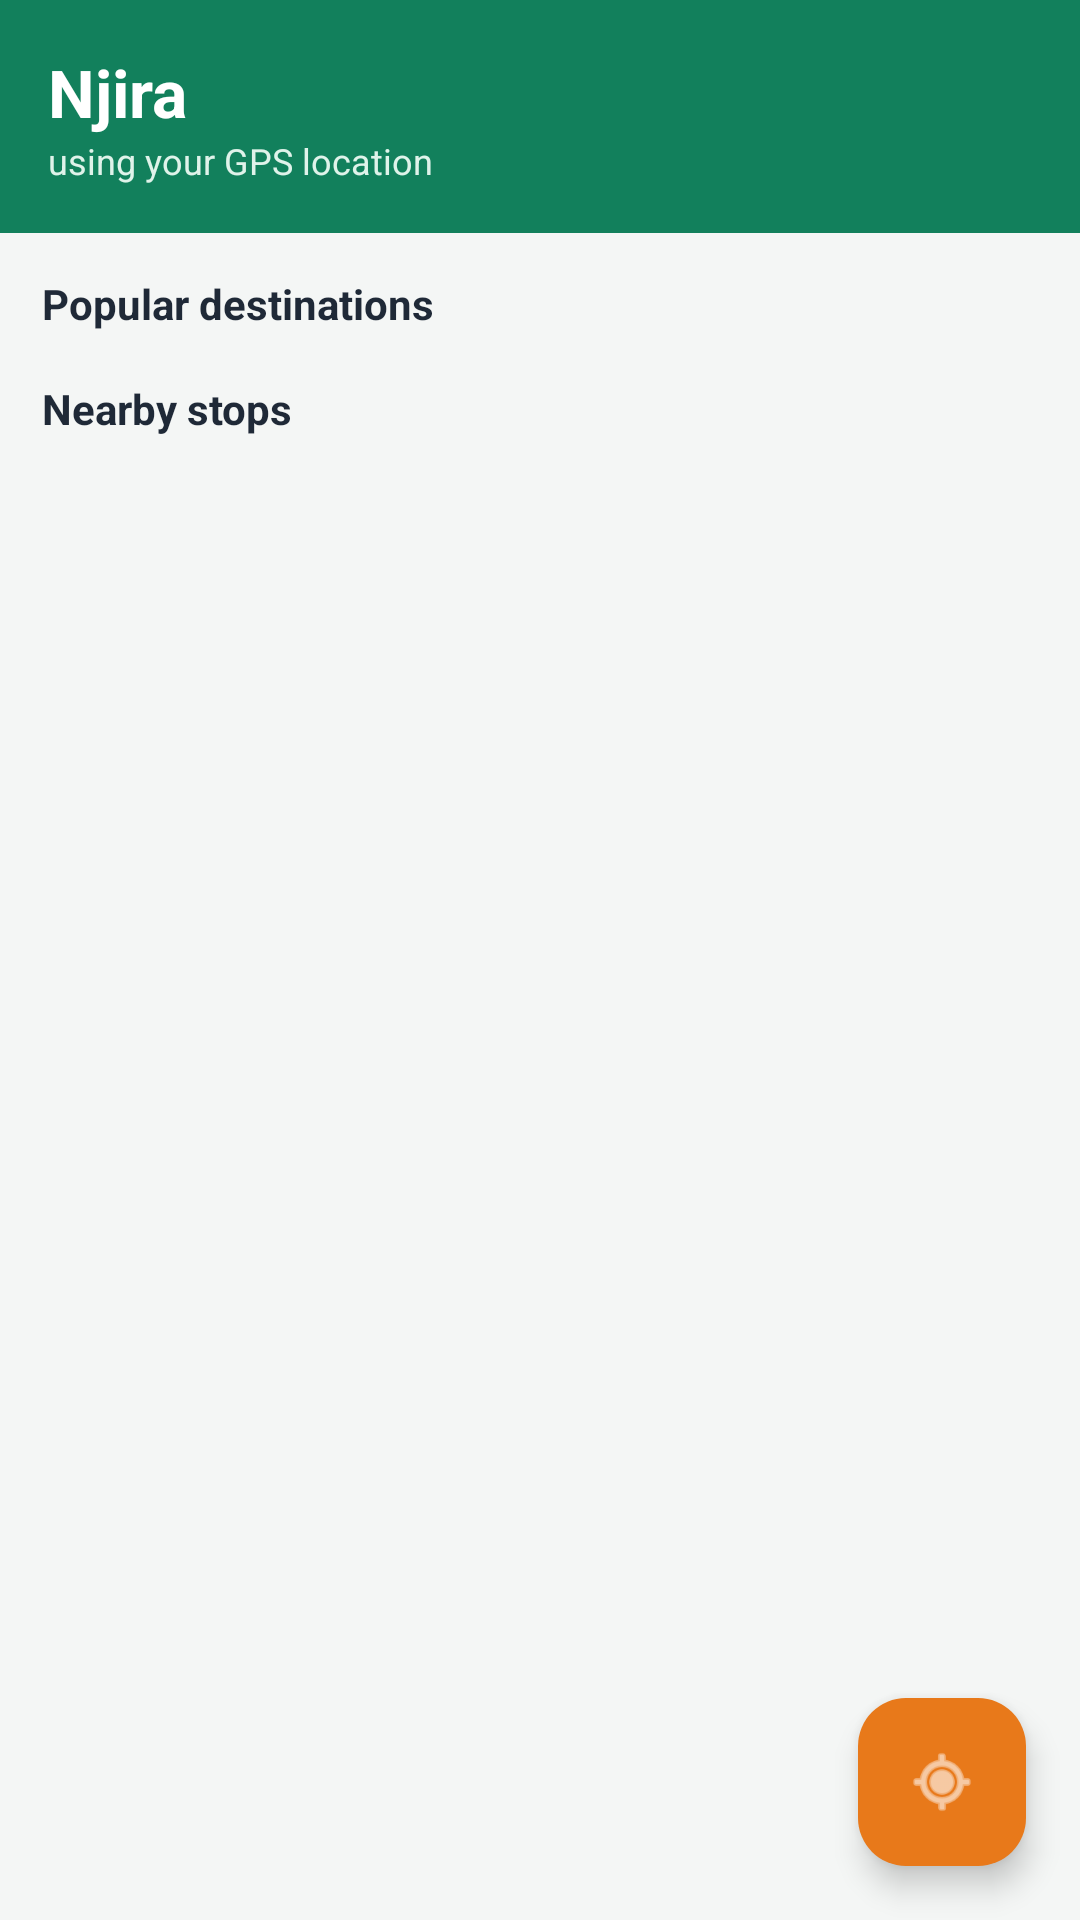

Screen size 1080px x 1920px. Icon name, then its box in pixels as (left=x1, top=y1, right=x2, bottom=y2):
mylocation: (left=858, top=1698, right=1026, bottom=1866)
